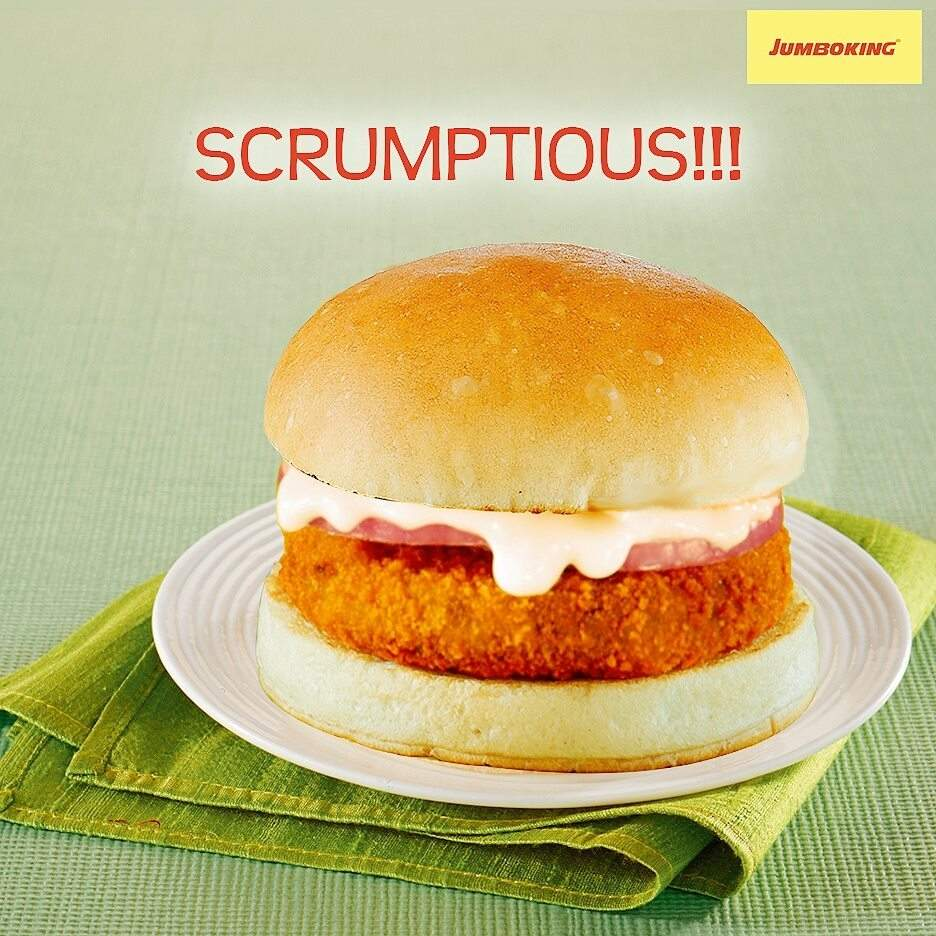vada pav: (253, 239, 821, 750)
